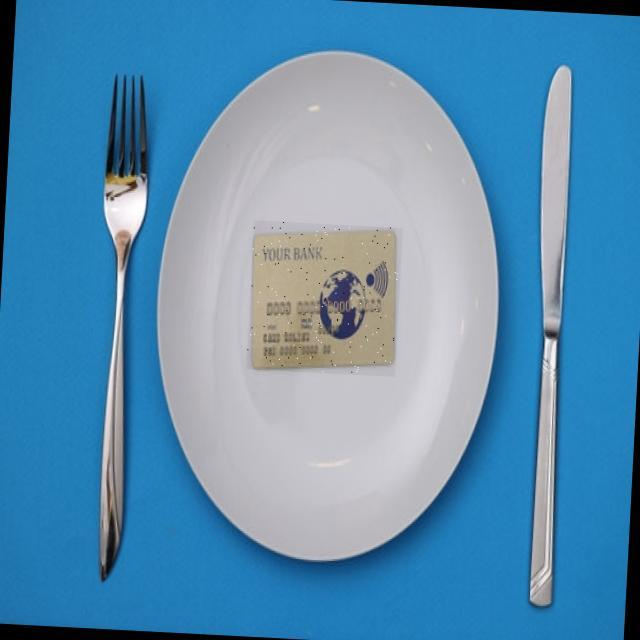payment_card: (249, 226, 397, 369)
